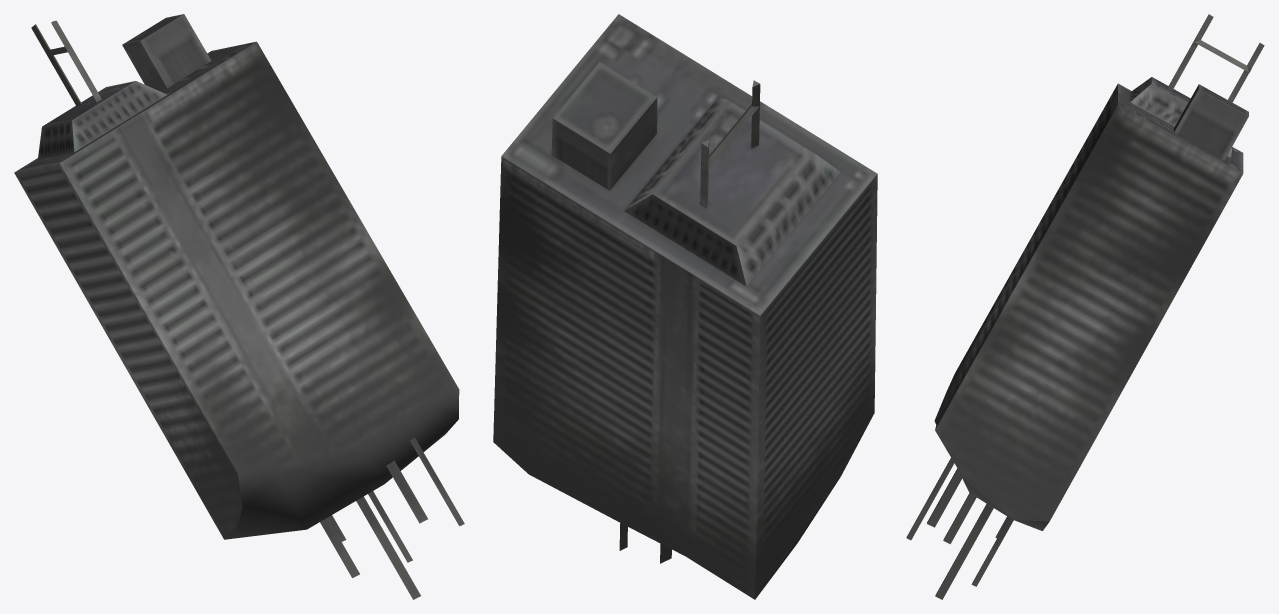
Rendered from skyBuildingAAC_pos_grp (36).fbx.
The picture shows the model from 3 angles, left to right: view 1: azimuth 30°, elevation 25°; view 2: azimuth 150°, elevation 25°; view 3: azimuth 270°, elevation 25°; orthographic projection. The views are drawn at different scales.
Visible parts, largest first — view 1: skyBuildingAAC_geo; view 2: skyBuildingAAC_geo; view 3: skyBuildingAAC_geo.
Boxes of the visible parts, <box> form: skyBuildingAAC_geo: <box>14,14,464,599</box>; skyBuildingAAC_geo: <box>493,14,877,599</box>; skyBuildingAAC_geo: <box>906,14,1264,599</box>.
Size of the model in its own units: 5.85 by 8.92 by 5.94.
1 material, 1 textured.
